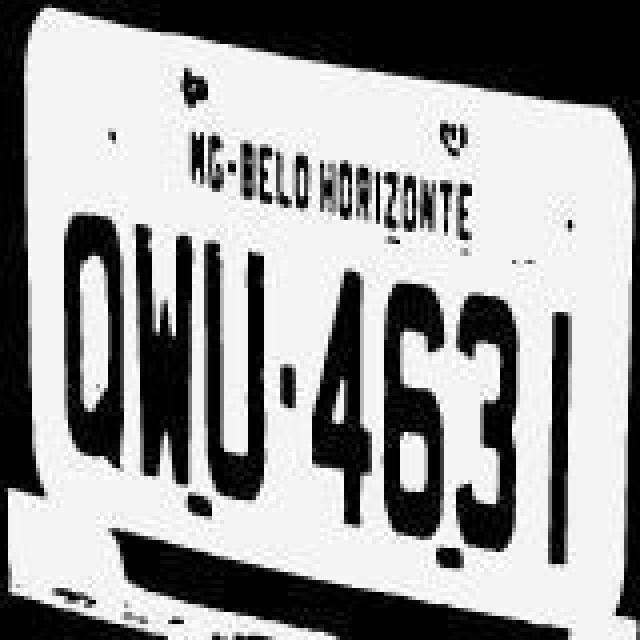1: (540, 304, 596, 560)
3: (450, 296, 526, 560)
4: (300, 252, 372, 532)
6: (372, 274, 452, 542)
Q: (44, 210, 132, 478)
U: (196, 238, 276, 514)
W: (132, 224, 204, 496)
